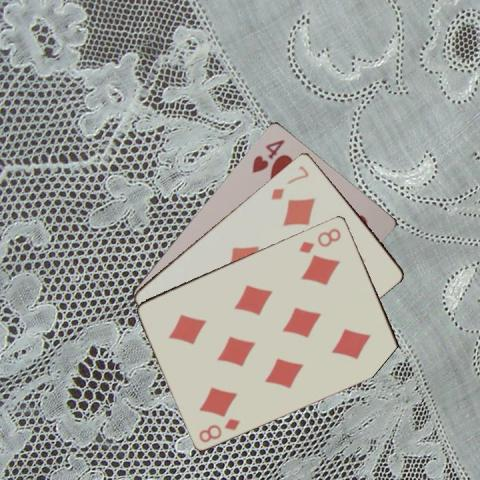4h: (248, 135, 286, 174)
7d: (267, 162, 311, 201)
8d: (295, 224, 343, 255), (196, 415, 241, 444)
